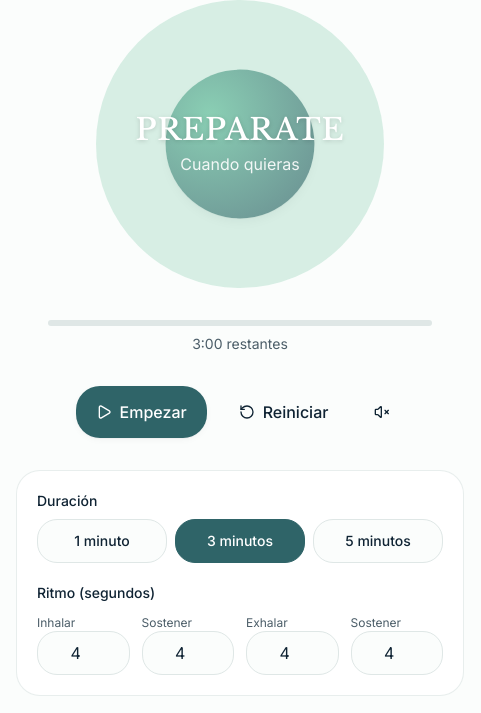
Scenario: respiración guiada › mientras se escribe un 0 en inhalar, el ejercicio usa 1 segundo
Replace the text in the number field named "Inhalar, segundos" with "0": (83,653) [37,631,130,675]
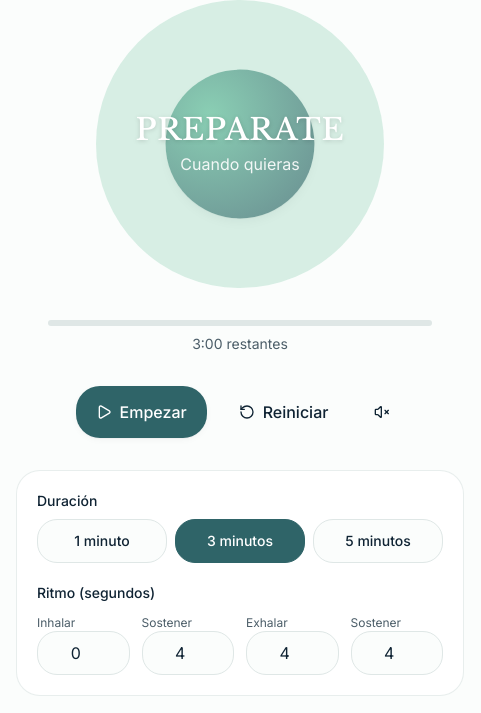
Click the button "Empezar": (141,412) [76,386,207,438]
Wait 1000 ms
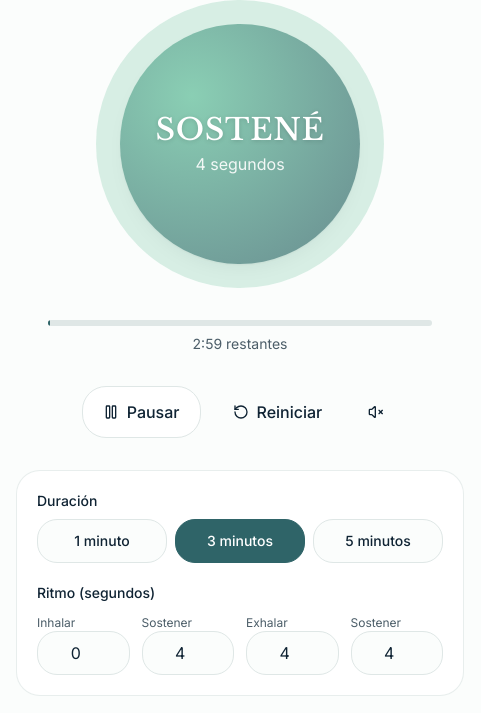
Expected: the text "1 segundo" is shown, [195,152,285,176]
Now the text "SOSTENÉ" is shown, box [155,112,324,148]
